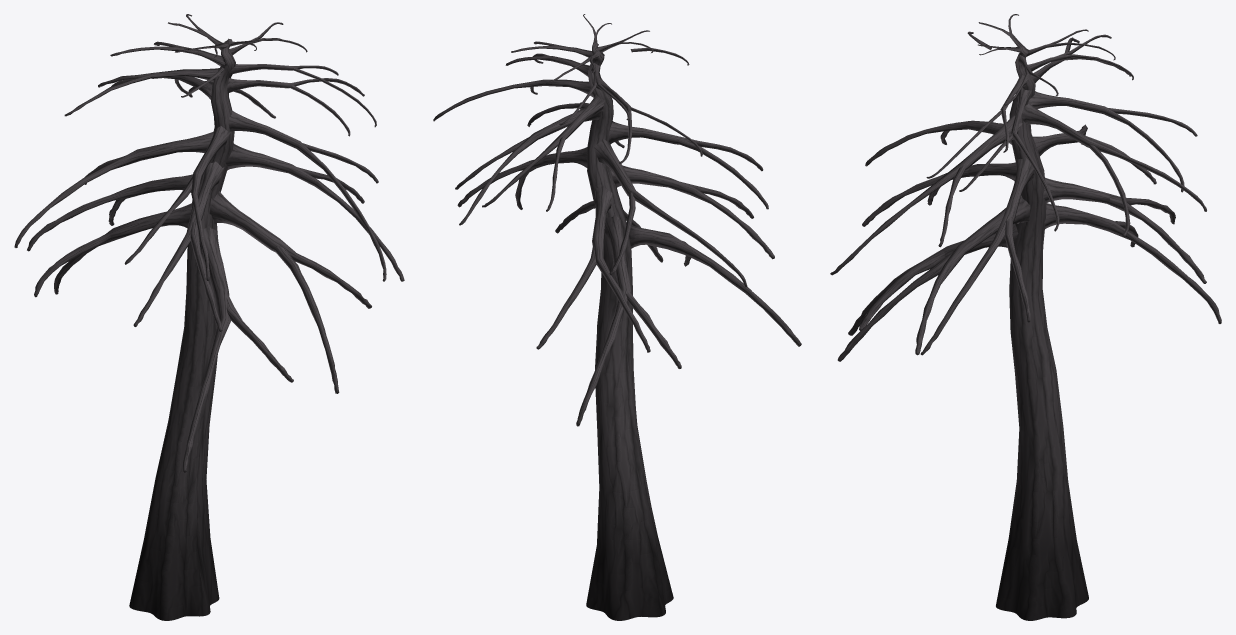
File: dead-tree-3.glb
The picture shows the model from 3 angles, left to right: view 1: azimuth 30°, elevation 25°; view 2: azimuth 150°, elevation 25°; view 3: azimuth 270°, elevation 25°; orthographic projection. The views are drawn at different scales.
Visible parts, largest first — view 1: DeadTree_4; view 2: DeadTree_4; view 3: DeadTree_4.
Part boxes in pixels (bbox=[...]): DeadTree_4: bbox=[14, 14, 404, 620]; DeadTree_4: bbox=[433, 14, 801, 620]; DeadTree_4: bbox=[830, 14, 1221, 620].
Size of the model in its own units: 7.96 by 12.77 by 7.73.
1 material, 1 textured.
